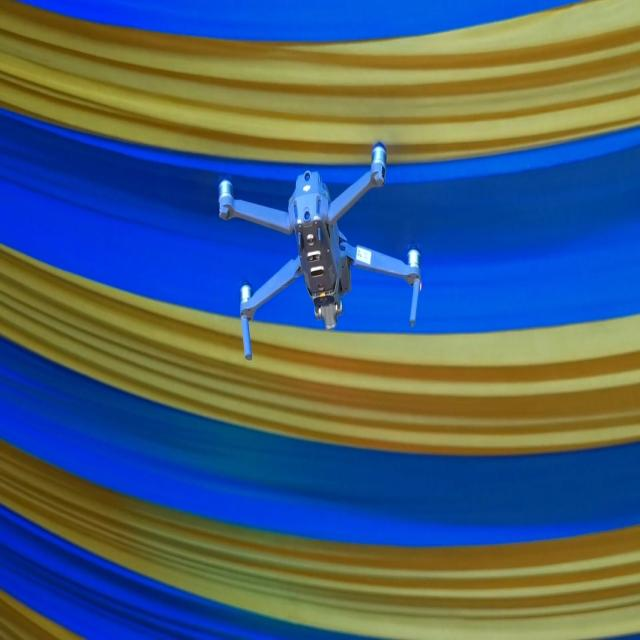Drone: (218, 144, 422, 365)
